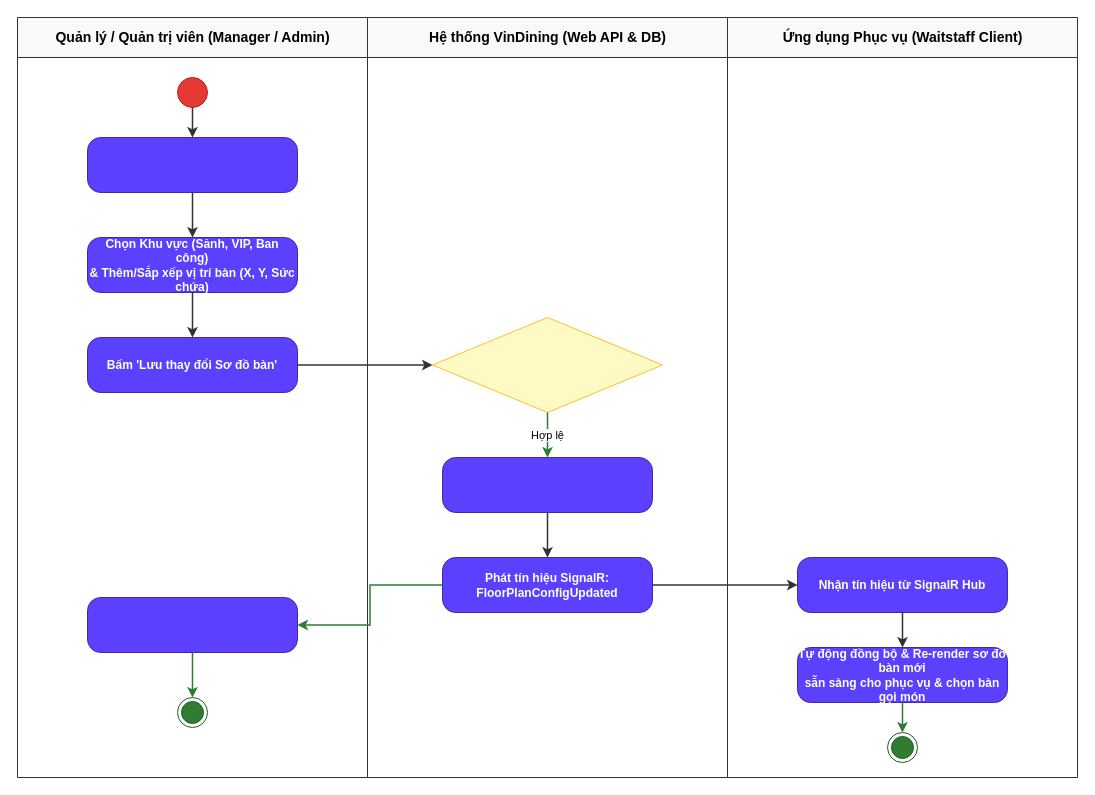
This 1095x795 diagram has some shape labels left out. Each missing label, with the centre of its shape:
"Kiểm tra hợp lệ: Mã bàn duy nhất, bàn đang phục vụ không bị đổi sức chứa" belongs at (x=547, y=364).
"Lưu tọa độ, khu vực & thông tin bàn vào CSDL qua UnitOfWork" belongs at (x=547, y=484).
"Nhận thông báo Lưu thành công & Xem trước trực quan Floor Plan mới" belongs at (x=192, y=624).
"Truy cập mục 'Cấu hình Sơ đồ bàn' trên Desktop Web Portal" belongs at (x=192, y=164).
